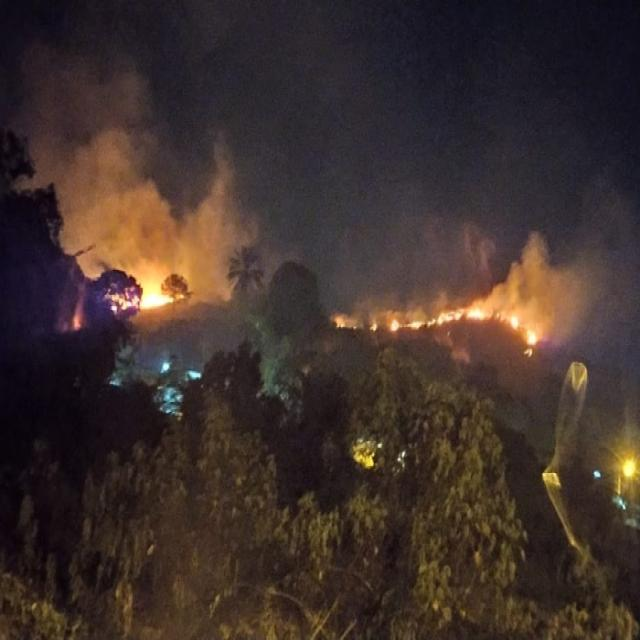Fire: (389, 306, 484, 333), (132, 260, 174, 309), (526, 326, 540, 346), (508, 310, 520, 330)
Smoke: (6, 7, 260, 299), (361, 174, 628, 326)
